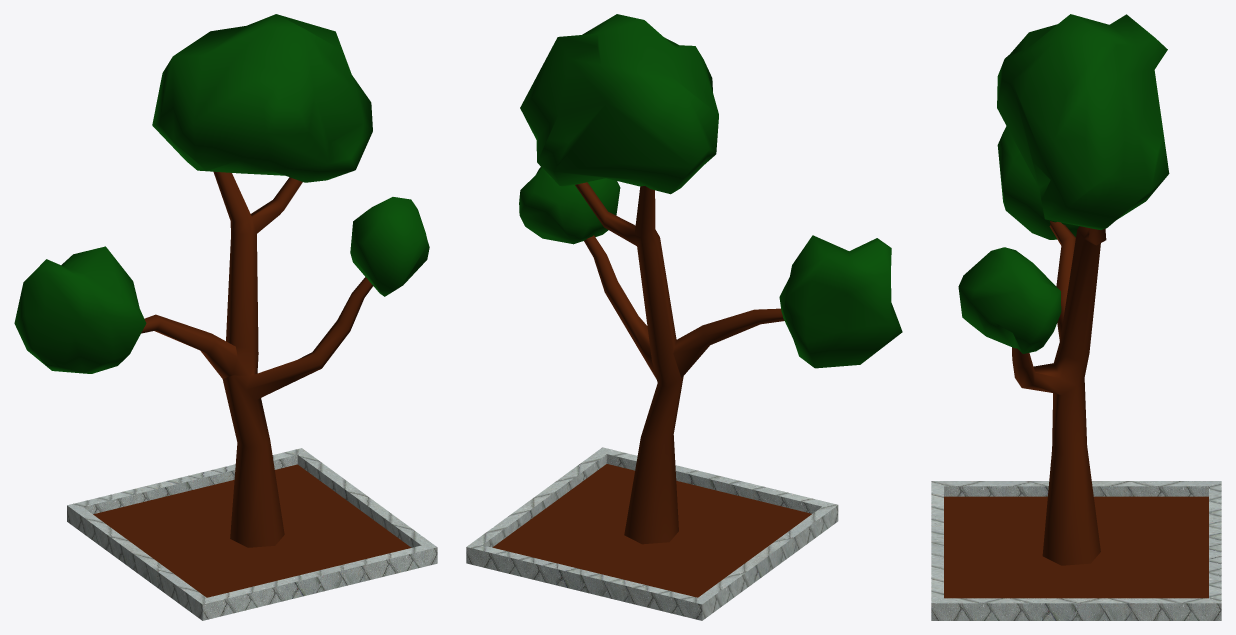
Rendered from Tree.fbx.
The picture shows the model from 3 angles, left to right: view 1: azimuth 30°, elevation 25°; view 2: azimuth 150°, elevation 25°; view 3: azimuth 270°, elevation 25°; orthographic projection. The views are drawn at different scales.
Parts seen in each view (by area): view 1: Tree, Base; view 2: Tree, Base; view 3: Tree, Base.
Part boxes in pixels (left/top/right/bottom): Tree: left=14, top=14, right=429, bottom=547; Base: left=67, top=448, right=437, bottom=620; Tree: left=519, top=14, right=902, bottom=544; Base: left=466, top=447, right=838, bottom=620; Tree: left=958, top=14, right=1169, bottom=565; Base: left=931, top=481, right=1221, bottom=620.
Size of the model in its own units: 246 by 150 by 315.
